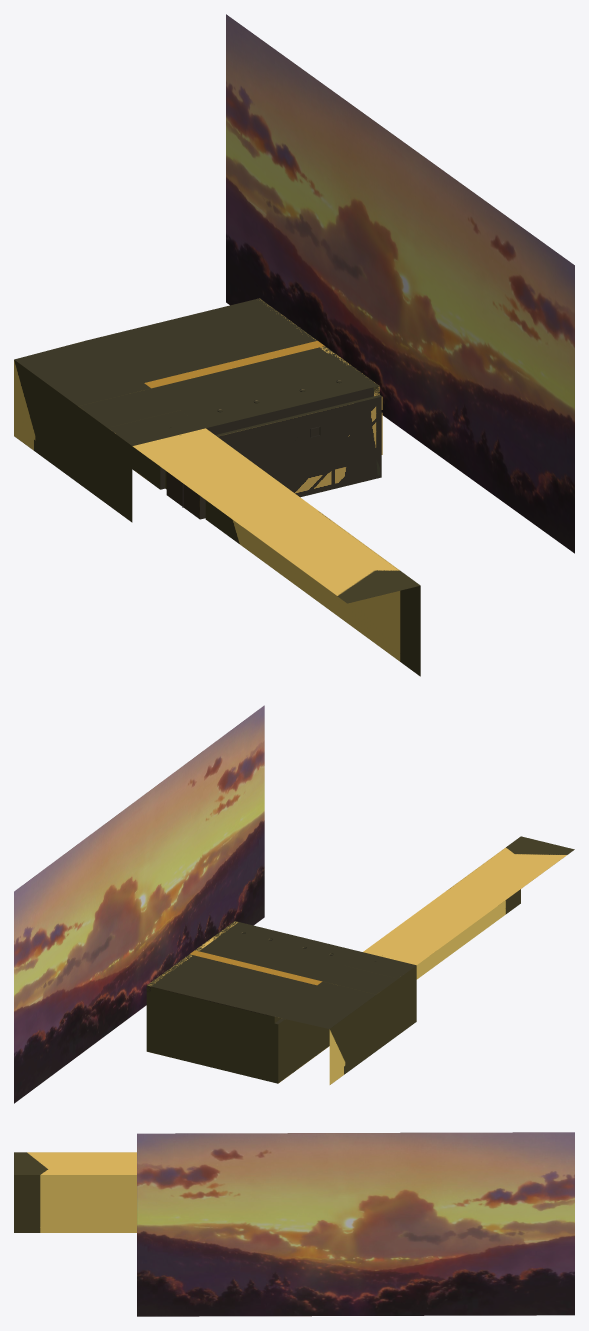
The model's file is AnimeClassroom.obj.
The picture shows the model from 3 angles, top to bottom: view 1: azimuth 30°, elevation 25°; view 2: azimuth 150°, elevation 25°; view 3: azimuth 270°, elevation 25°; orthographic projection. The views are drawn at different scales.
Parts seen in each view (by area): view 1: Plane.002_Plane.001, 学校いす_mesh.007_学校いす.008; view 2: Plane.002_Plane.001, 学校いす_mesh.007_学校いす.008; view 3: Plane.002_Plane.001, 学校いす_mesh.007_学校いす.008.
Boxes of the visible parts, left/top/right/bottom form: Plane.002_Plane.001: left=226, top=14, right=574, bottom=553; 学校いす_mesh.007_学校いす.008: left=14, top=298, right=420, bottom=676; Plane.002_Plane.001: left=14, top=705, right=264, bottom=1103; 学校いす_mesh.007_学校いす.008: left=146, top=836, right=574, bottom=1084; Plane.002_Plane.001: left=137, top=1132, right=574, bottom=1316; 学校いす_mesh.007_学校いす.008: left=14, top=1152, right=136, bottom=1232.
Size of the model in its own units: 38.04 by 32.3 by 89.69.
Materials: 19 (16 with a texture image).
